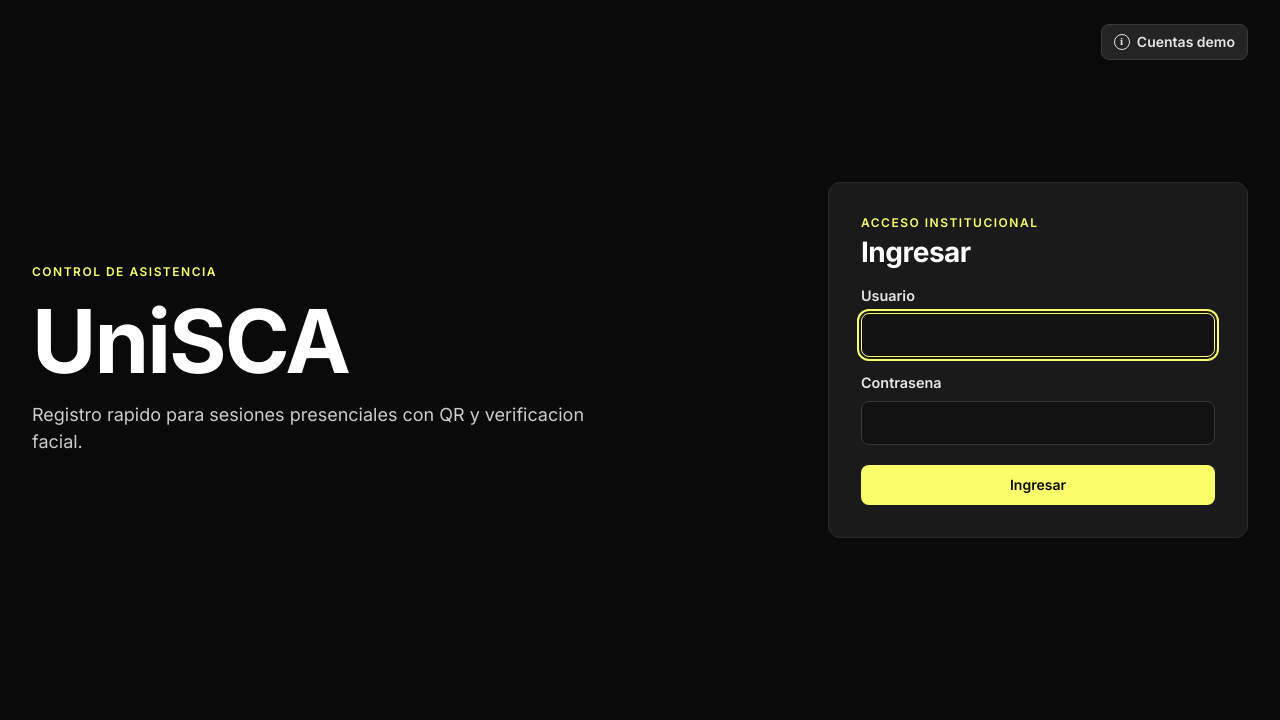
Test: requires the access code before displaying demo accounts
Click the button with aria-label "Información de cuentas de demostración": (1174, 42) [1101,24,1248,60]
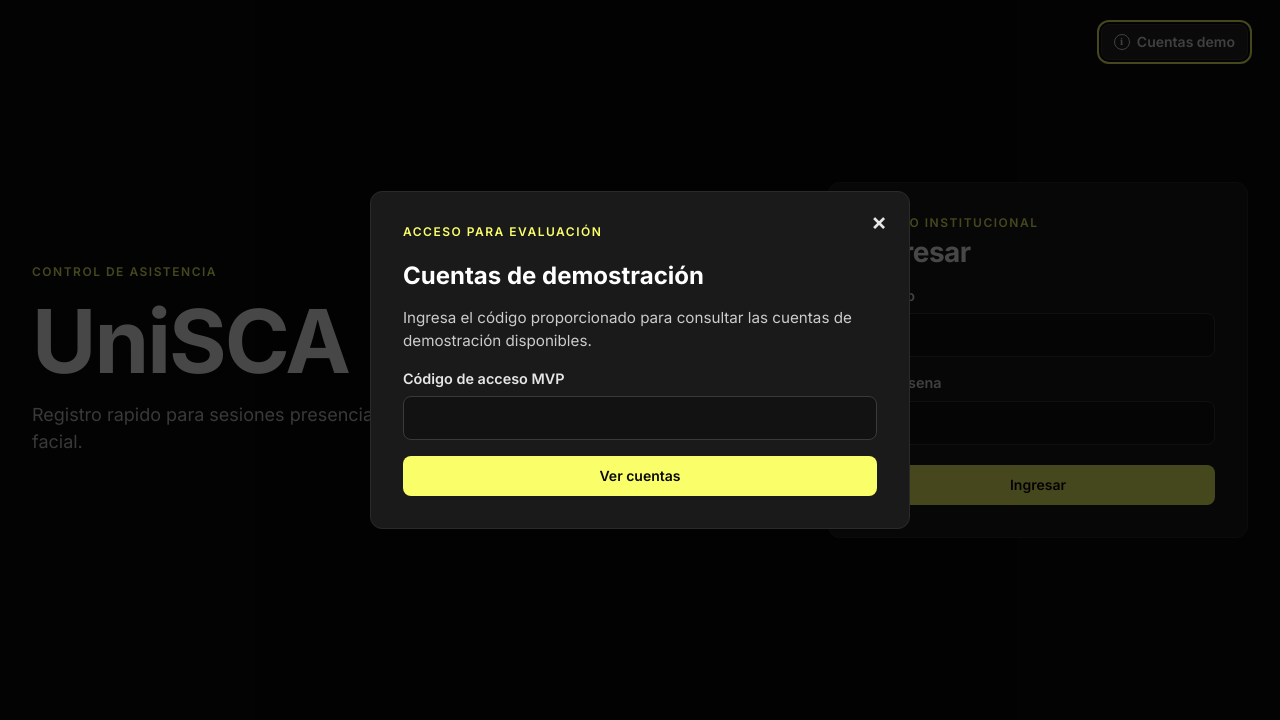
In the password field labelled "Código de acceso MVP": (640, 418) [403,396,877,440], type "incorrecto"
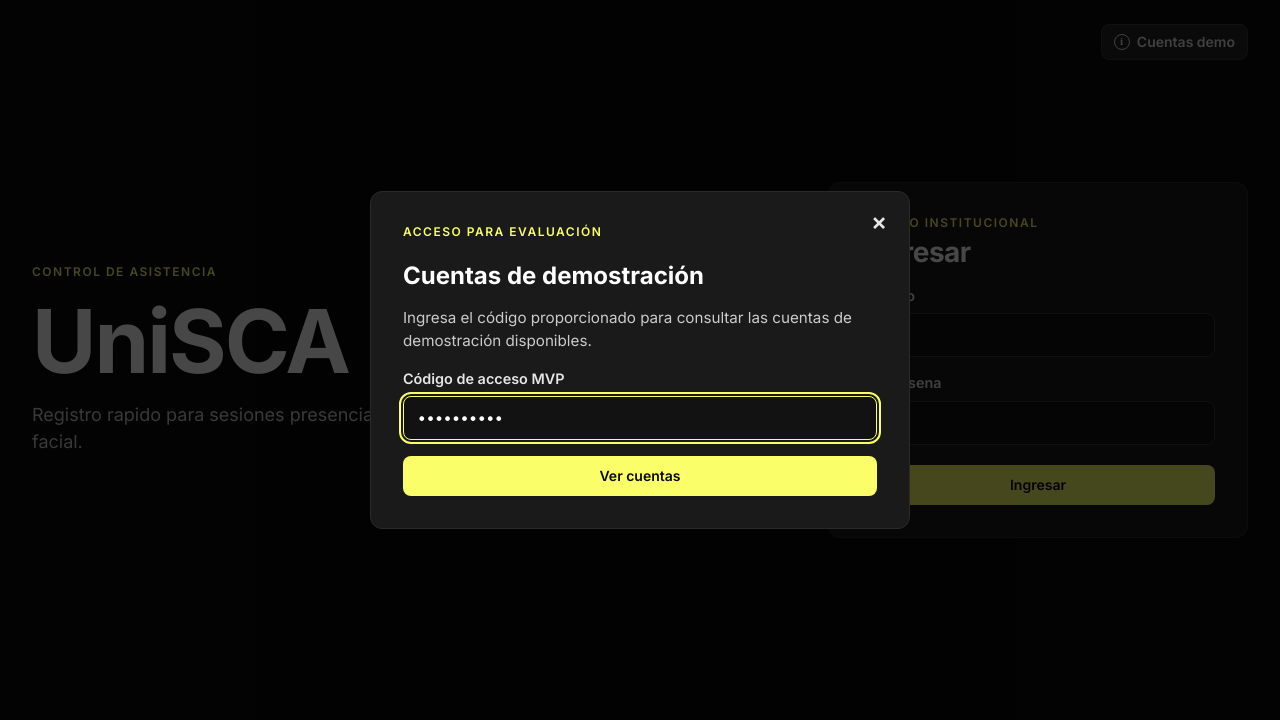
Click the button "Ver cuentas": (640, 476) [403,456,877,496]
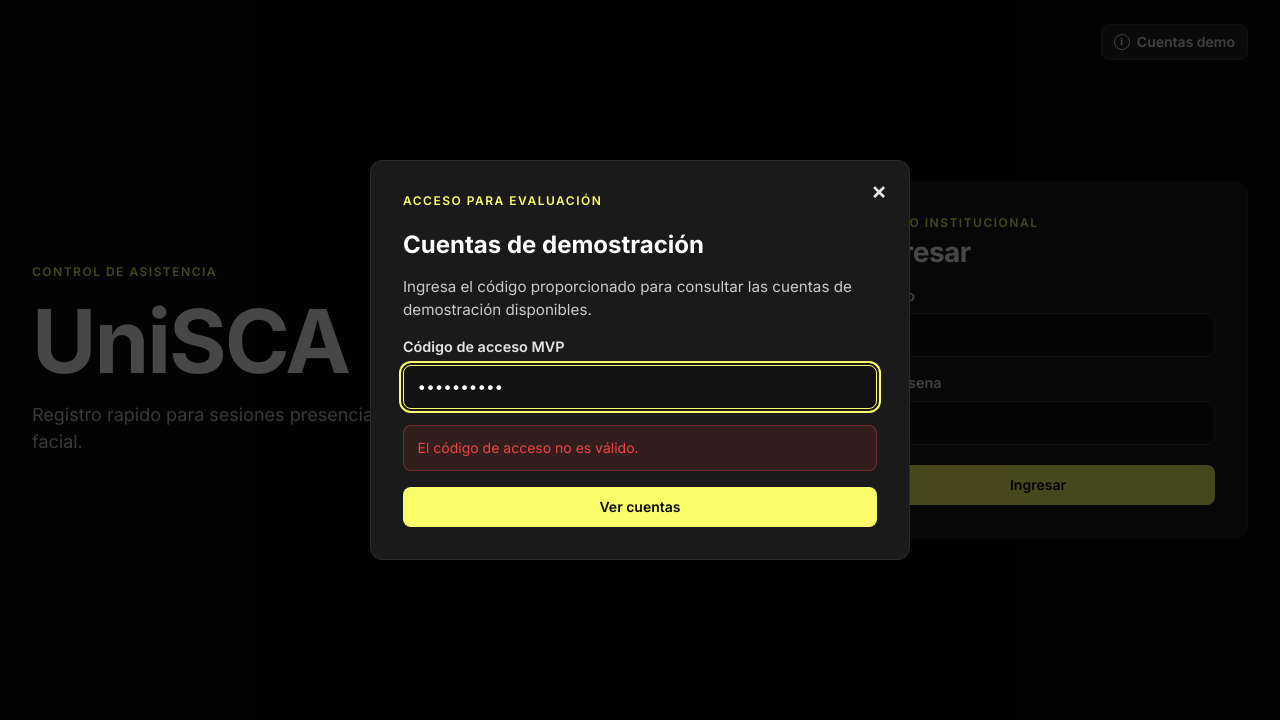
Check: the message reads "El código de acceso no es válido.", box [418,439,639,456]
